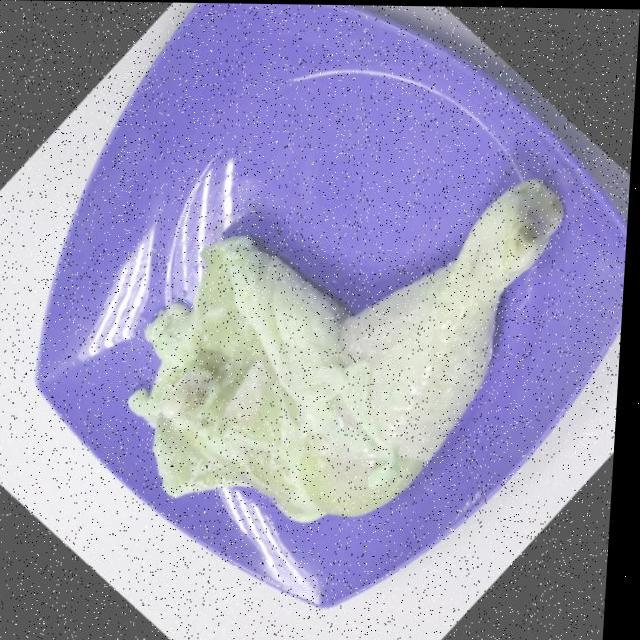quater: (141, 178, 561, 511)
